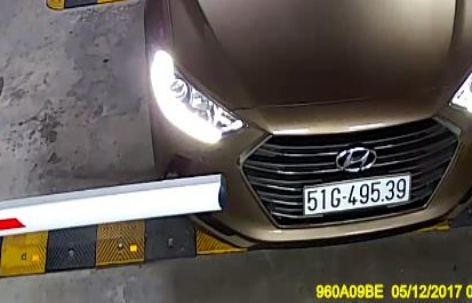plate: (295, 173, 412, 213)
